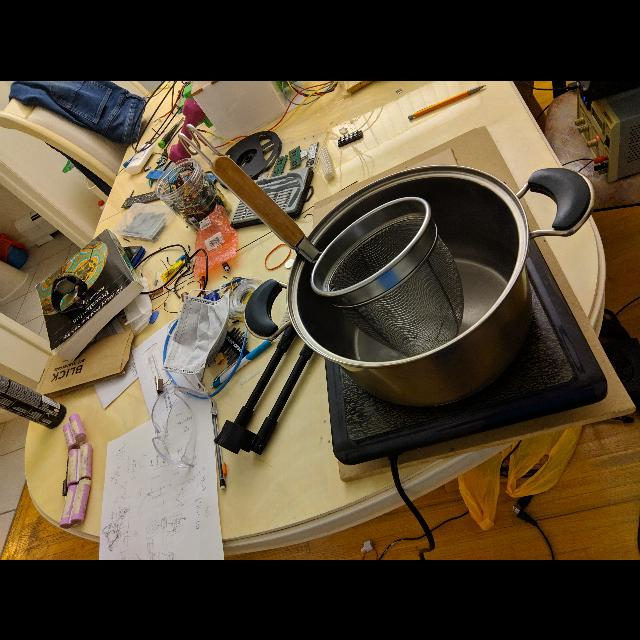Handle: (179, 123, 323, 263)
Strainer: (312, 194, 426, 296)
